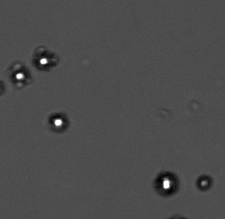Living Cell: (155, 174, 178, 196), (11, 69, 29, 87), (50, 115, 68, 132), (36, 53, 52, 68), (197, 175, 212, 191)
